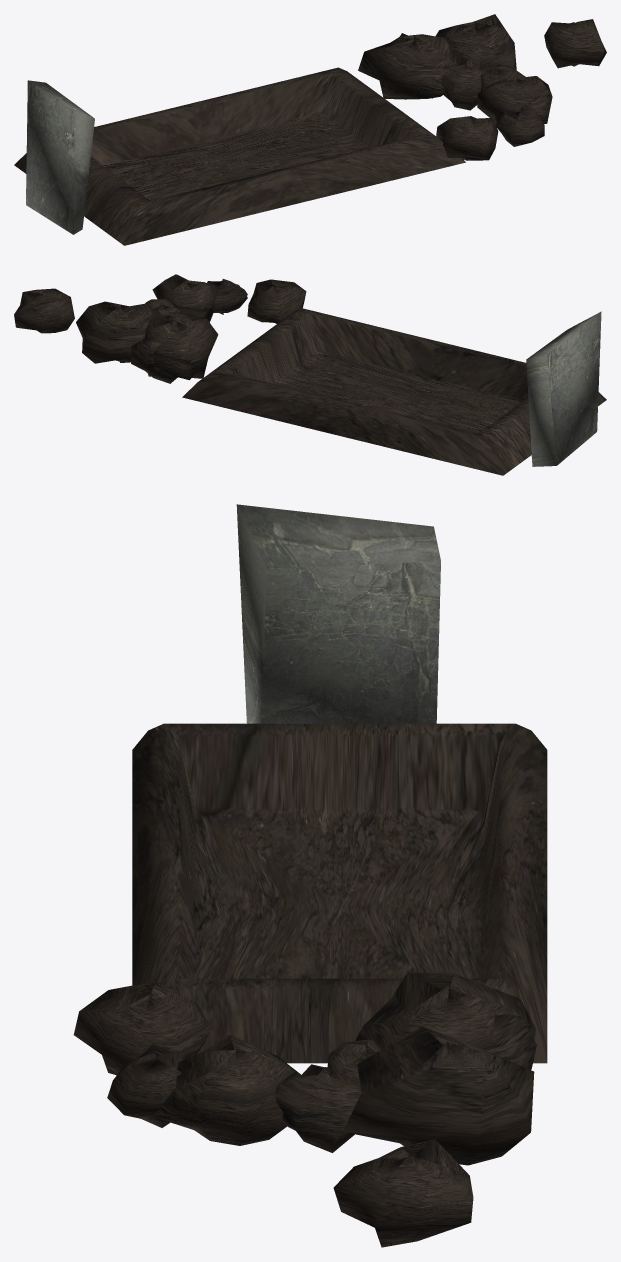
The model's file is kit_sf_small_grave_open_p.glb.
The picture shows the model from 3 angles, top to bottom: view 1: azimuth 30°, elevation 25°; view 2: azimuth 150°, elevation 25°; view 3: azimuth 270°, elevation 25°; orthographic projection. The views are drawn at different scales.
Visible parts, largest first — view 1: kit_sf_small_grave_open_p; view 2: kit_sf_small_grave_open_p; view 3: kit_sf_small_grave_open_p.
Part boxes in pixels (x1,y1,x2,y2): kit_sf_small_grave_open_p: (14, 14, 606, 245); kit_sf_small_grave_open_p: (14, 274, 606, 475); kit_sf_small_grave_open_p: (73, 504, 547, 1247).
Bounding box in the file's own units: 2.15 × 0.4746 × 0.8219.
1 material, 1 textured.
